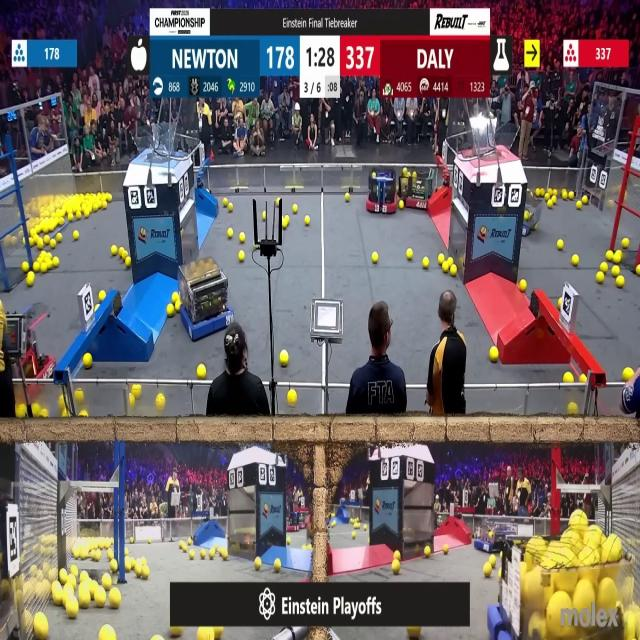ball_ground: (109, 590, 120, 609), (67, 600, 78, 618), (101, 626, 115, 640), (95, 591, 106, 608), (79, 592, 90, 608), (409, 626, 421, 639), (280, 350, 289, 366), (490, 347, 499, 362), (198, 363, 207, 378), (171, 626, 182, 638), (15, 407, 25, 420), (568, 404, 577, 418), (103, 574, 112, 588), (288, 390, 296, 405), (83, 353, 91, 368), (158, 394, 166, 409), (392, 560, 400, 574), (624, 367, 633, 379), (199, 628, 208, 640), (32, 405, 40, 418), (74, 389, 82, 402), (27, 274, 35, 286), (484, 564, 492, 576), (141, 567, 149, 579), (614, 250, 622, 262), (275, 559, 282, 572), (564, 373, 572, 384), (110, 561, 118, 572), (254, 558, 261, 570), (424, 544, 431, 556), (597, 273, 604, 285), (611, 266, 618, 278), (168, 306, 175, 318), (282, 216, 289, 228), (123, 560, 130, 572), (61, 570, 68, 582), (622, 239, 630, 249), (36, 239, 44, 249), (80, 571, 88, 581), (407, 249, 414, 260), (126, 256, 133, 267), (520, 280, 526, 292), (572, 254, 578, 266), (239, 250, 245, 262), (451, 266, 457, 278), (618, 277, 625, 287), (600, 264, 607, 274), (54, 256, 61, 266), (41, 409, 48, 419), (220, 550, 227, 560), (118, 248, 125, 258), (71, 566, 78, 576), (371, 252, 377, 263), (423, 257, 429, 268), (240, 234, 246, 244), (23, 264, 29, 274), (100, 290, 106, 300), (558, 240, 564, 250), (34, 264, 40, 274), (108, 550, 114, 560), (606, 251, 612, 261), (82, 210, 89, 218), (444, 543, 450, 552), (394, 552, 400, 561), (579, 375, 585, 384), (111, 246, 117, 255), (444, 265, 450, 274), (41, 265, 47, 274), (292, 205, 298, 214), (57, 235, 63, 244), (68, 212, 74, 221), (172, 292, 178, 301), (188, 551, 194, 560), (76, 211, 82, 220), (59, 216, 65, 225), (175, 303, 180, 313), (491, 556, 496, 566), (546, 201, 552, 209), (50, 240, 56, 248), (62, 412, 68, 420), (102, 202, 108, 210), (0, 302, 4, 314), (29, 238, 35, 246), (227, 230, 232, 239), (440, 254, 445, 263), (210, 551, 215, 560), (180, 540, 185, 549), (286, 537, 292, 544), (398, 202, 403, 210), (263, 212, 268, 220), (107, 192, 112, 200), (568, 190, 573, 198), (202, 550, 206, 560), (563, 190, 568, 198), (449, 256, 454, 264), (276, 200, 281, 208), (227, 204, 232, 212), (123, 546, 128, 554), (44, 237, 49, 245), (74, 232, 78, 241), (306, 216, 310, 225), (636, 267, 640, 276), (80, 412, 86, 418), (306, 543, 312, 549), (584, 198, 589, 205), (535, 188, 540, 195), (187, 538, 192, 545), (346, 192, 350, 200), (576, 202, 580, 210), (152, 636, 160, 640), (553, 193, 557, 201), (544, 193, 549, 199), (331, 521, 335, 528), (131, 536, 135, 542), (148, 537, 152, 543), (352, 532, 356, 538), (354, 524, 358, 529)
goal: (465, 120, 521, 160), (129, 130, 188, 160)
robot_blue: (486, 534, 590, 640), (181, 257, 234, 339), (475, 519, 501, 553), (518, 204, 539, 234)
robot_red: (366, 167, 399, 215), (398, 166, 432, 208), (284, 512, 305, 532)
